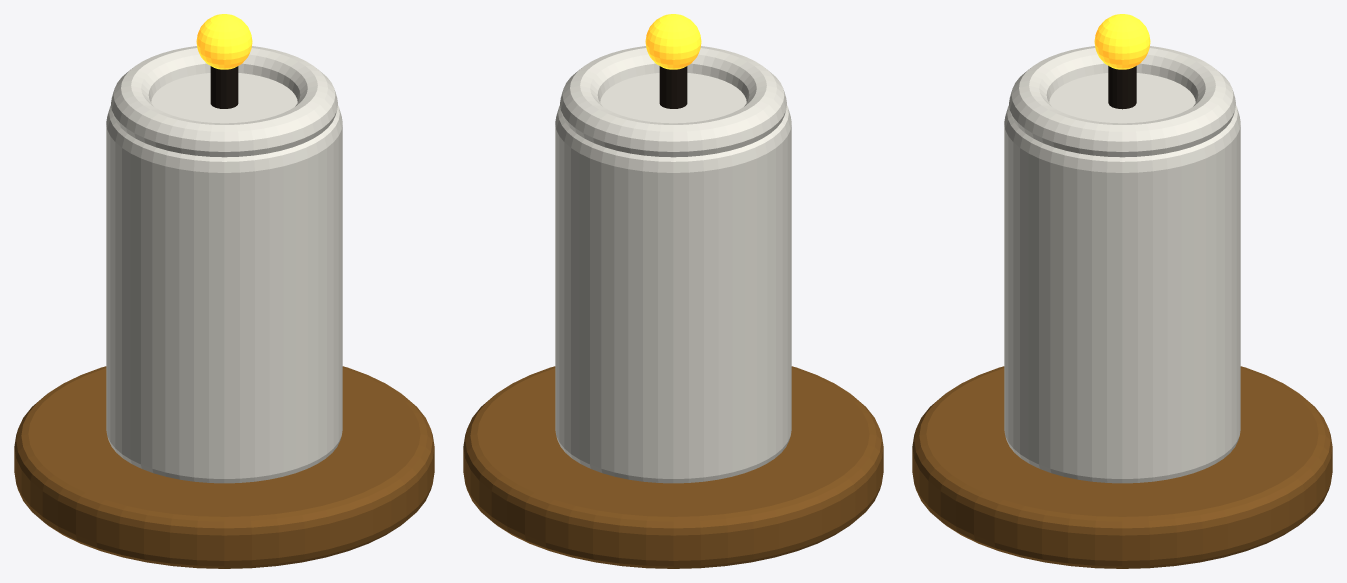
Rendered from TableCandle.glb.
3 views of the same model, side by side, from view 1: azimuth 30°, elevation 25°; view 2: azimuth 150°, elevation 25°; view 3: azimuth 270°, elevation 25° (orthographic).
Visible parts, largest first — view 1: WaxBody, Saucer, WaxRim, GlowOrb, Wick; view 2: WaxBody, Saucer, WaxRim, GlowOrb, Wick; view 3: WaxBody, Saucer, WaxRim, GlowOrb, Wick.
Part boxes in pixels (box(x1,y1,x2,y2)): WaxBody: box(106, 73, 342, 483); Saucer: box(14, 366, 434, 568); WaxRim: box(111, 46, 337, 157); GlowOrb: box(196, 14, 252, 69); Wick: box(210, 66, 238, 108); WaxBody: box(555, 73, 791, 483); Saucer: box(463, 366, 883, 568); WaxRim: box(560, 46, 786, 157); GlowOrb: box(645, 14, 701, 69); Wick: box(659, 66, 687, 108); WaxBody: box(1004, 73, 1240, 483); Saucer: box(912, 366, 1332, 568); WaxRim: box(1009, 46, 1235, 157); GlowOrb: box(1094, 14, 1150, 69); Wick: box(1108, 66, 1136, 109).
Size of the model in its own units: 0.27 by 0.332 by 0.27.
